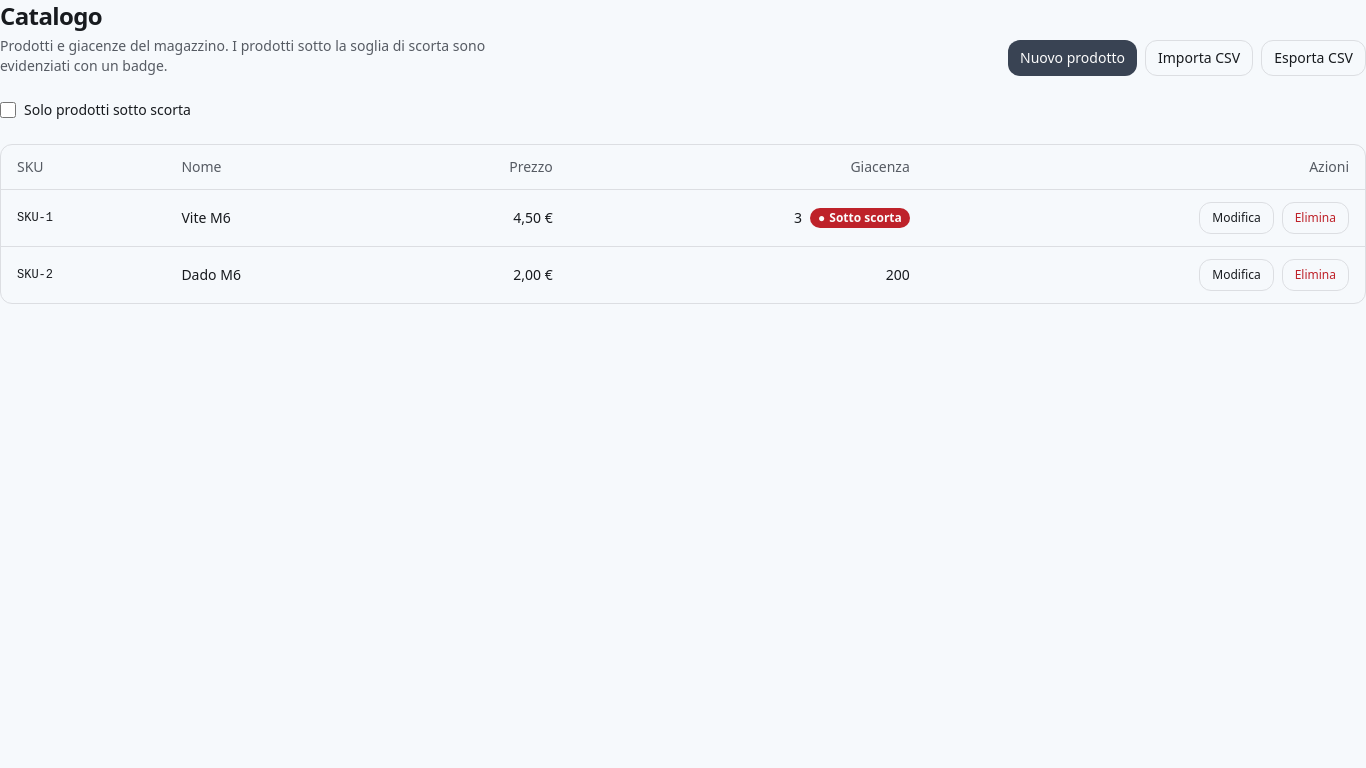
Scenario: ProductsView › crea un prodotto e ricarica la lista
This screenshot has width=1366, height=768.
Expected: the text "Vite M6" is shown, [181,208,231,227]
Click the button "Nuovo prodotto" at point(1072, 58), box [1008,40,1137,76]
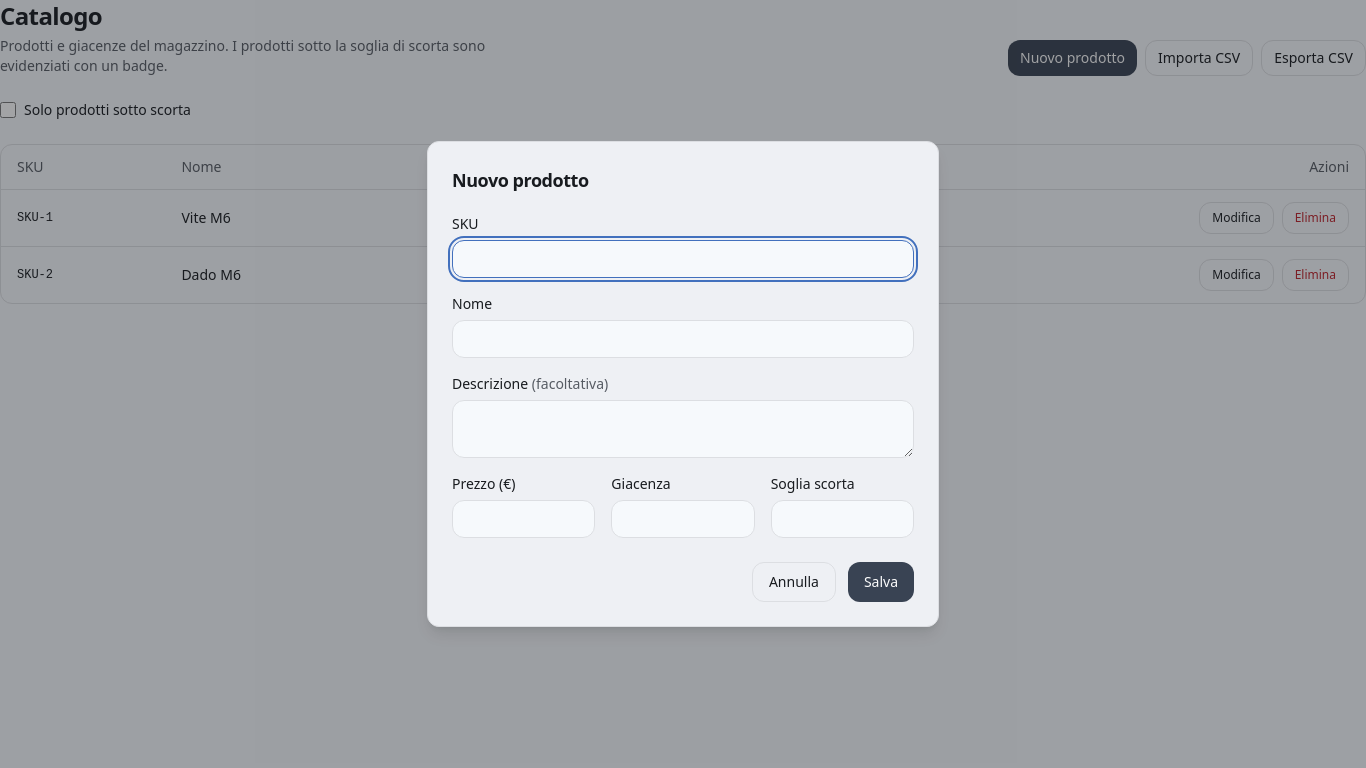
Type "SKU-9" into the field labelled "SKU" at point(683, 259), box [452,240,914,278]
Type "Bullone" into the field labelled "Nome" at point(683, 339), box [452,320,914,358]
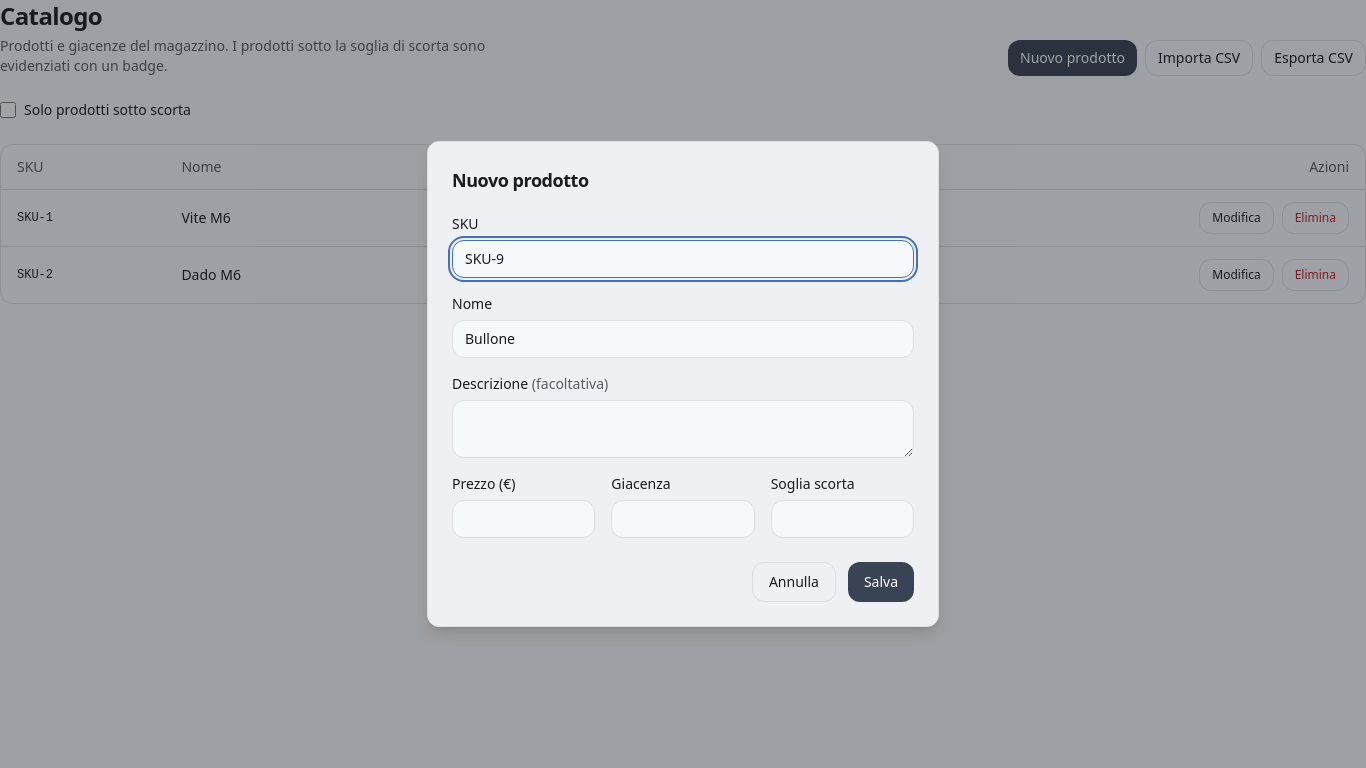
Type "3" into the field labelled "Prezzo (€)" at point(524, 519), box [452,500,595,538]
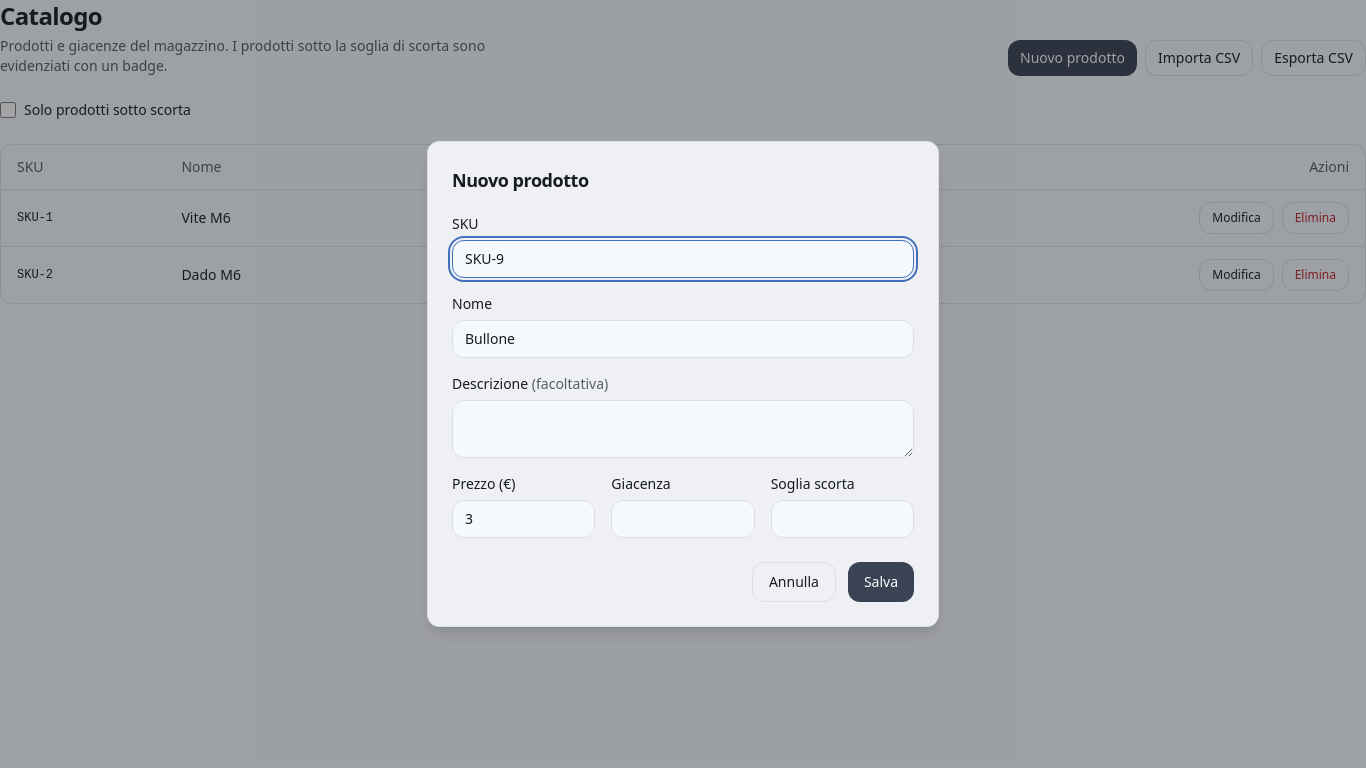
Type "10" into the number field labelled "Giacenza" at point(683, 519), box [611,500,755,538]
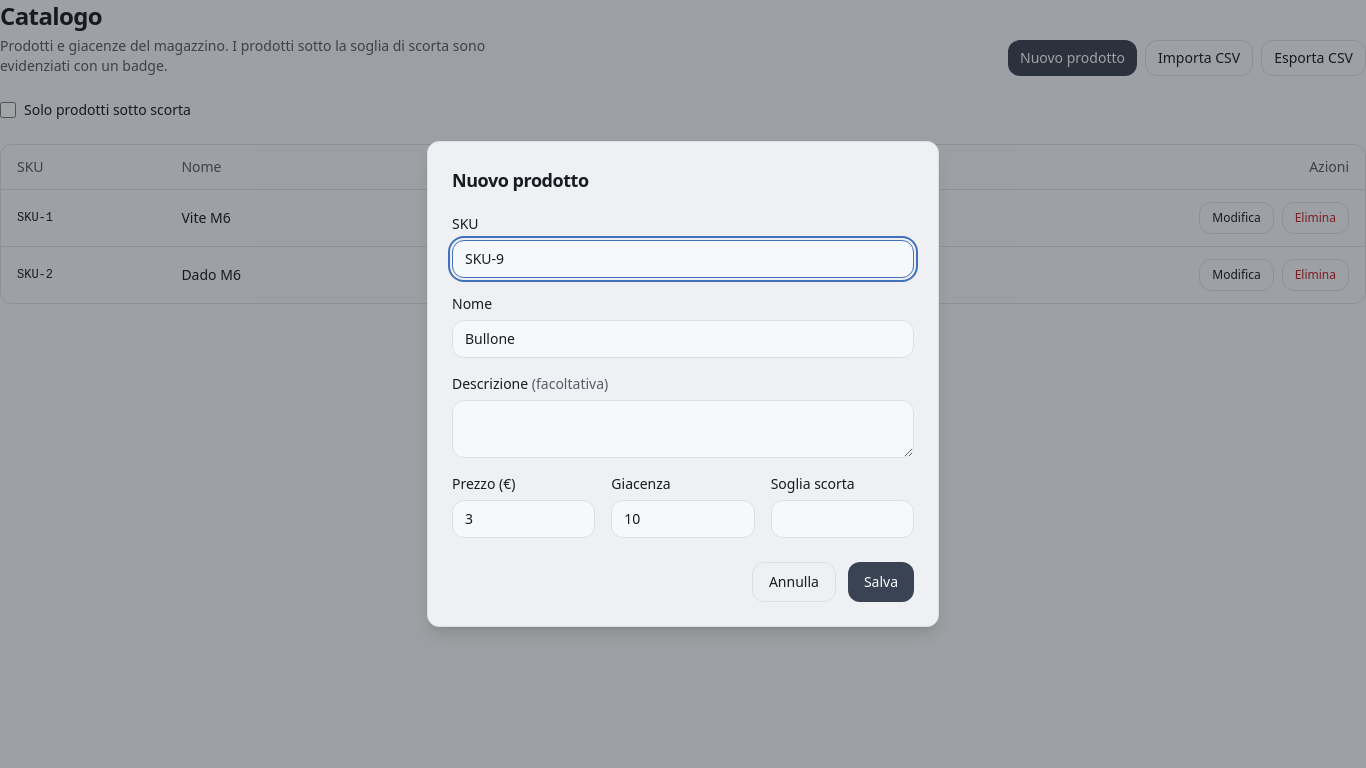
Type "2" into the number field labelled "Soglia scorta" at point(842, 519), box [771,500,914,538]
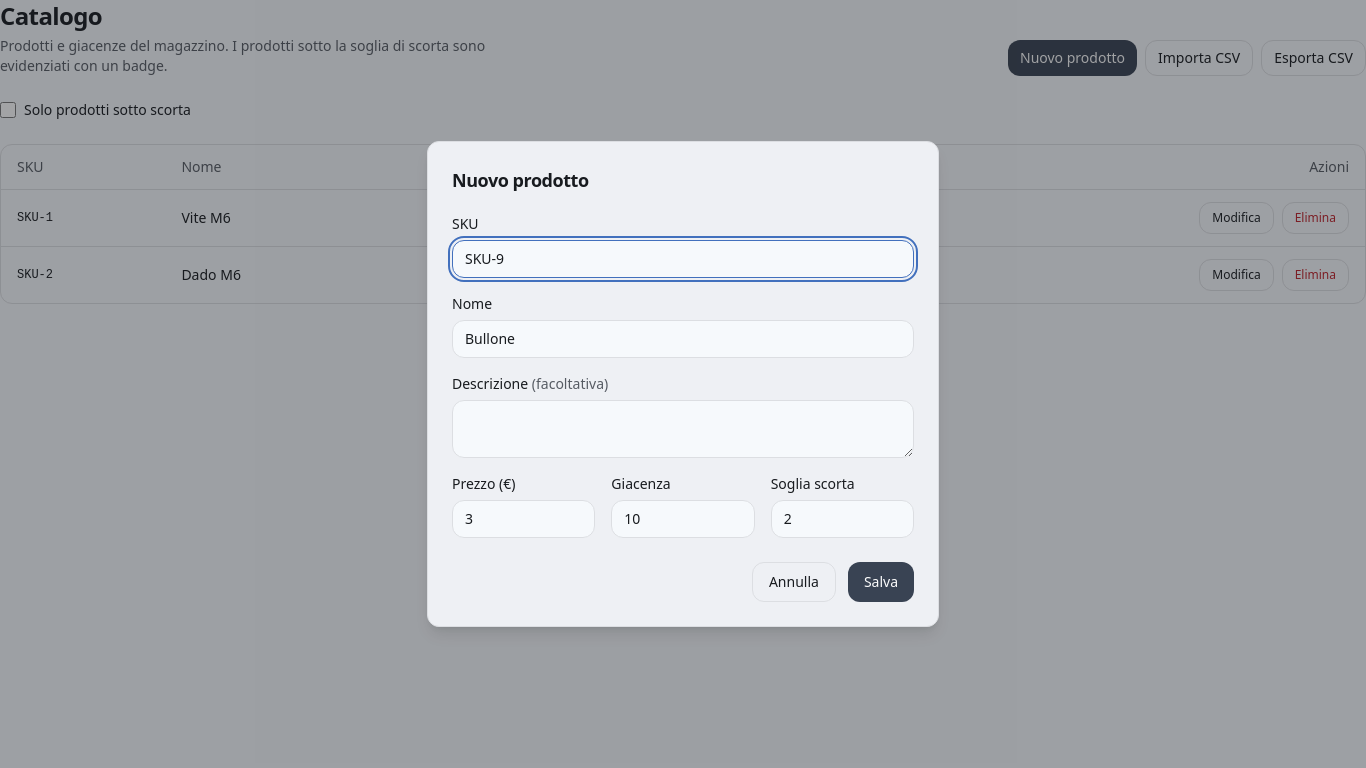
Click the button "Salva" at point(881, 582), box [848,562,914,602]
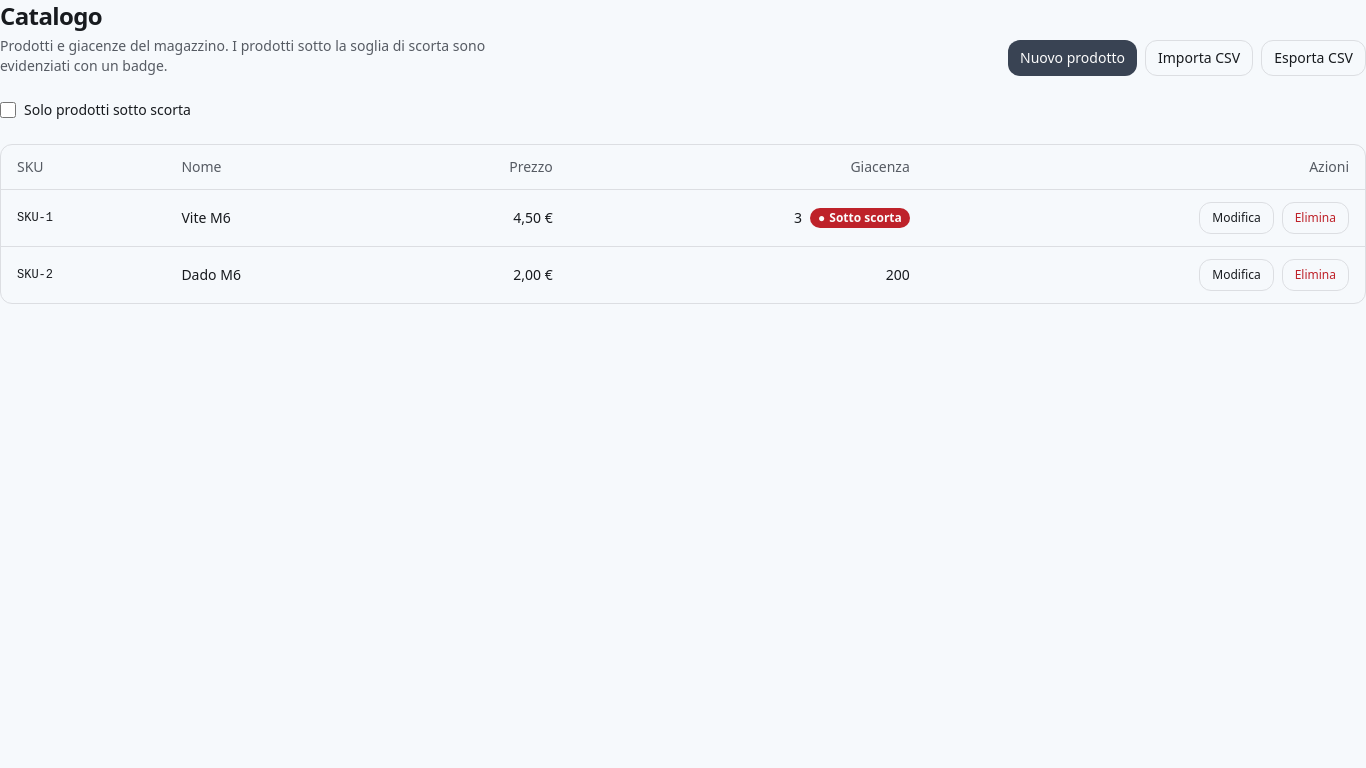
Expected: the dialog is gone
